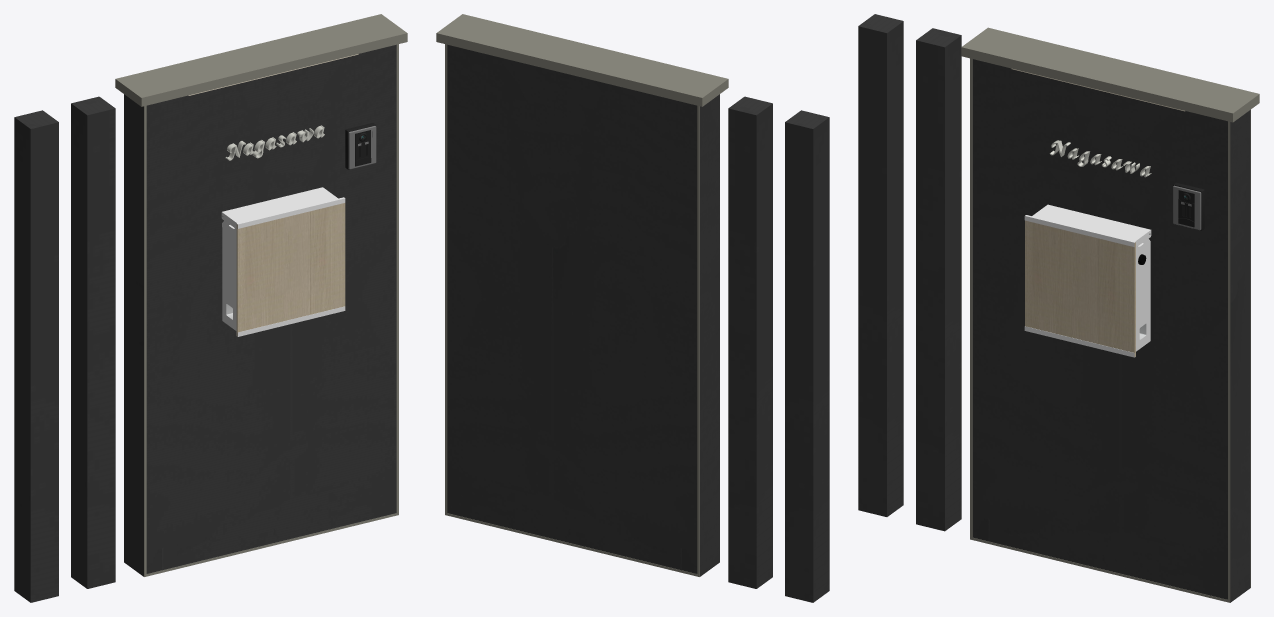
The model's file is ab37-m_matblack.fbx.
3 views of the same model, side by side, from view 1: azimuth 30°, elevation 25°; view 2: azimuth 150°, elevation 25°; view 3: azimuth 330°, elevation 25° (orthographic). The views are drawn at different scales.
Parts seen in each view (by area): view 1: ab37-m_matblack; view 2: ab37-m_matblack; view 3: ab37-m_matblack.
Boxes of the visible parts, x1,y1,x2,y2 form: ab37-m_matblack: (14, 14, 407, 602); ab37-m_matblack: (436, 14, 829, 602); ab37-m_matblack: (858, 14, 1259, 602).
Bounding box in the file's own units: 131 × 163 × 26.5.
13 materials, 7 textured.
